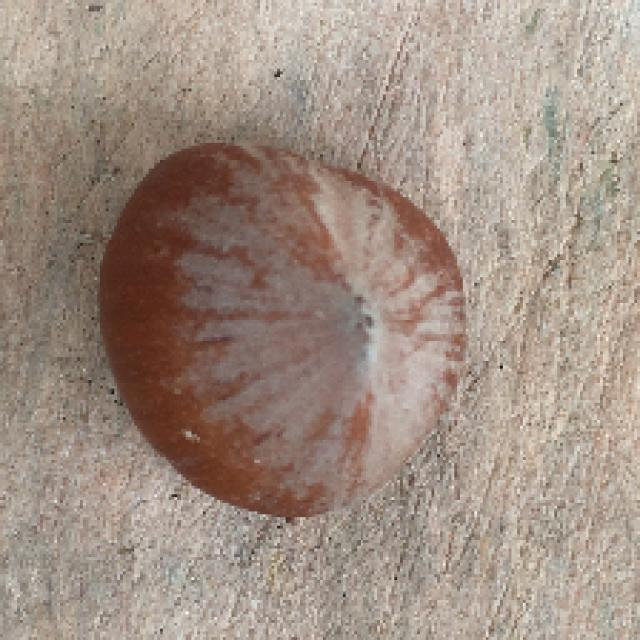QualityHazelnut: (92, 140, 466, 519)
